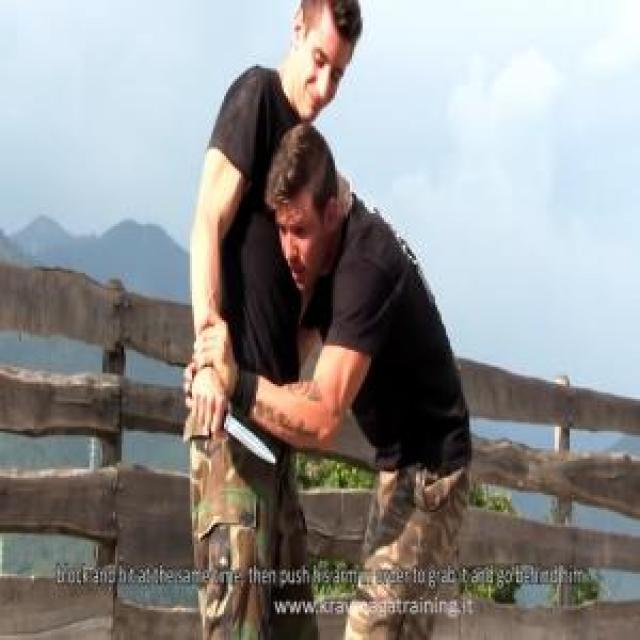knife: (188, 371, 278, 474)
